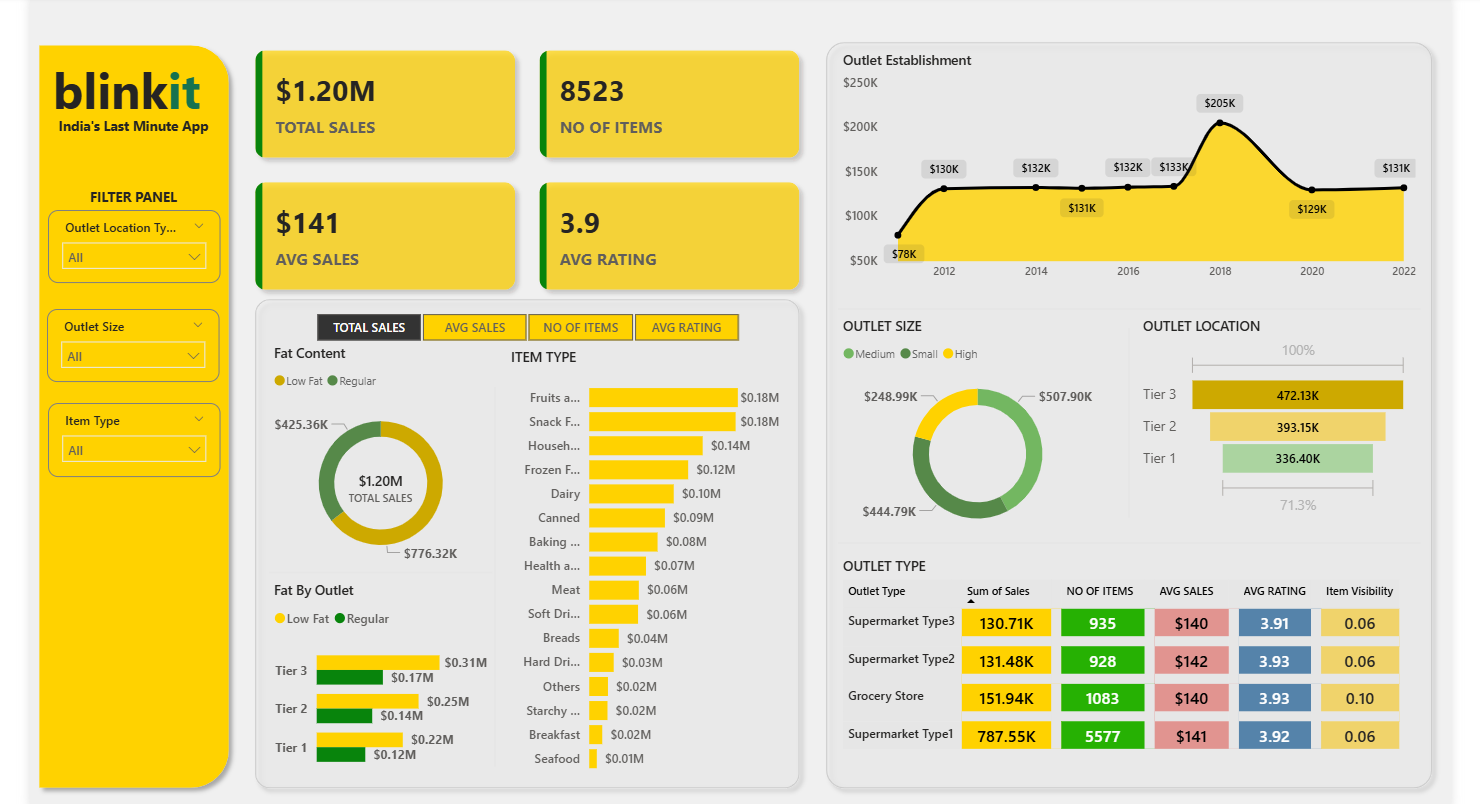

This screenshot's page, from the dashboard's own definition file:
{"tool":"powerbi","page":{"name":"Page 1","canvas":[1400,800],"ordinal":0},"visuals":[{"type":"shape","box":[0,38.4,204.9,749.8],"z":0},{"type":"textbox","box":[17.7,53.2,170.4,74.9],"z":1000},{"type":"textbox","box":[16.7,113.3,170.4,28.6],"z":2000},{"type":"cardVisual","fields":{"Data":["BlinkIT Grocery Data.Total Sales","BlinkIT Grocery Data.Avg Sales","BlinkIT Grocery Data.No of Items","BlinkIT Grocery Data.Avg rating"]},"box":[205.3,35.1,570.2,270.2],"z":3000},{"type":"shape","box":[212.8,288.3,554.3,500],"z":4000},{"type":"donutChart","title":"Fat Content","fields":{"Y":["BlinkIT Grocery Data.TOTAL SALES"],"Category":["BlinkIT Grocery Data.Item Fat Content"]},"box":[235.1,341.5,220.2,229.8],"z":5000},{"type":"slicer","fields":{"Values":["Metrics.Metrics"]},"box":[257.4,305.3,464.9,40.4],"z":6000},{"type":"cardVisual","fields":{"Data":["BlinkIT Grocery Data.TOTAL SALES"]},"box":[285.1,451.1,121.3,62.8],"z":7000},{"type":"clusteredBarChart","title":"Fat By Outlet","fields":{"Y":["BlinkIT Grocery Data.TOTAL SALES"],"Category":["BlinkIT Grocery Data.Outlet Location Type"],"Series":["BlinkIT Grocery Data.Item Fat Content"]},"box":[235.1,575.5,220.2,200],"z":8000},{"type":"shape","box":[235.1,552.1,220.2,30.9],"z":9000},{"type":"shape","box":[425.5,384,64.9,374.5],"z":10000},{"type":"barChart","title":"ITEM TYPE","fields":{"Y":["BlinkIT Grocery Data.TOTAL SALES"],"Category":["BlinkIT Grocery Data.Item Type"]},"box":[469.1,345.7,274.5,428.7],"z":11000},{"type":"shape","box":[775.5,35.1,614.9,753.2],"z":12000},{"type":"lineChart","title":"Outlet Establishment","fields":{"Y":["BlinkIT Grocery Data.TOTAL SALES"],"Category":["BlinkIT Grocery Data.Outlet Establishment Year"]},"box":[795.7,53.2,574.5,235.1],"z":13000},{"type":"shape","box":[795.7,288.3,574.5,37.2],"z":14000},{"type":"donutChart","title":"OUTLET SIZE","fields":{"Y":["BlinkIT Grocery Data.TOTAL SALES"],"Category":["BlinkIT Grocery Data.Outlet Size"]},"box":[795.7,314.9,275,225],"z":15000},{"type":"shape","box":[1050,326.6,64.9,187.2],"z":16000},{"type":"funnel","title":"OUTLET LOCATION","fields":{"Y":["Sum(BlinkIT Grocery Data.Sales)"],"Category":["BlinkIT Grocery Data.Outlet Location Type"]},"box":[1091.5,314.9,271.3,198.9],"z":17000},{"type":"shape","box":[795.7,519.1,574.5,37.2],"z":18000},{"type":"pivotTable","title":"OUTLET TYPE","fields":{"Rows":["BlinkIT Grocery Data.Outlet Type"],"Values":["Sum(BlinkIT Grocery Data.Sales)","BlinkIT Grocery Data.NO OF ITEMS","BlinkIT Grocery Data.AVG SALES","BlinkIT Grocery Data.AVG RATING","Avg(BlinkIT Grocery Data.Item Visibility)"]},"box":[795.7,552.1,574.5,206.4],"z":19000},{"type":"slicer","fields":{"Values":["BlinkIT Grocery Data.Outlet Location Type"]},"box":[17.7,209.9,170.4,71.9],"z":20000},{"type":"slicer","fields":{"Values":["BlinkIT Grocery Data.Outlet Size"]},"box":[16.7,307.4,170.4,71.9],"z":21000},{"type":"slicer","fields":{"Values":["BlinkIT Grocery Data.Item Type"]},"box":[17.7,400,170.4,72.9],"z":22000},{"type":"textbox","box":[39.4,183.3,125.1,26.6],"z":23000}]}

Visuals, with their boxes on the page's 1400x800 design canvas (x1, y1, x2, y2). These are canvas units, not pixel positions in the 1480x804 screenshot, which may show the page scaled, cropped or inside an application window:
shape: BBox(0, 38, 205, 788)
textbox: BBox(18, 53, 188, 128)
textbox: BBox(17, 113, 187, 142)
cardVisual - BlinkIT Grocery Data.Total Sales x BlinkIT Grocery Data.Avg Sales: BBox(205, 35, 776, 305)
shape: BBox(213, 288, 767, 788)
"Fat Content" donutChart: BBox(235, 342, 455, 571)
slicer - Metrics.Metrics: BBox(257, 305, 722, 346)
cardVisual - BlinkIT Grocery Data.TOTAL SALES: BBox(285, 451, 406, 514)
"Fat By Outlet" clusteredBarChart: BBox(235, 576, 455, 776)
shape: BBox(235, 552, 455, 583)
shape: BBox(426, 384, 490, 758)
"ITEM TYPE" barChart: BBox(469, 346, 744, 774)
shape: BBox(776, 35, 1390, 788)
"Outlet Establishment" lineChart: BBox(796, 53, 1370, 288)
shape: BBox(796, 288, 1370, 326)
"OUTLET SIZE" donutChart: BBox(796, 315, 1071, 540)
shape: BBox(1050, 327, 1115, 514)
"OUTLET LOCATION" funnel: BBox(1092, 315, 1363, 514)
shape: BBox(796, 519, 1370, 556)
"OUTLET TYPE" pivotTable: BBox(796, 552, 1370, 758)
slicer - BlinkIT Grocery Data.Outlet Location Type: BBox(18, 210, 188, 282)
slicer - BlinkIT Grocery Data.Outlet Size: BBox(17, 307, 187, 379)
slicer - BlinkIT Grocery Data.Item Type: BBox(18, 400, 188, 473)
textbox: BBox(39, 183, 164, 210)
